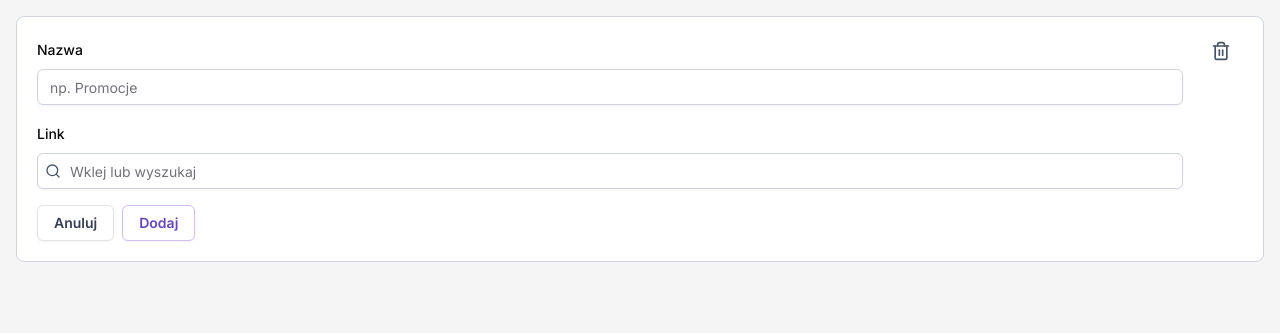
it: NavigationForm › sprawdz po blędnym wypełnianu formularza czy pokazuje błedy dla użytkownika › sprawdz czy pokazuje błędy walidacji
The width and height of the screenshot is (1280, 333).
Step 1. Click the button "Dodaj" → point(159, 223), box [122,205,195,241]
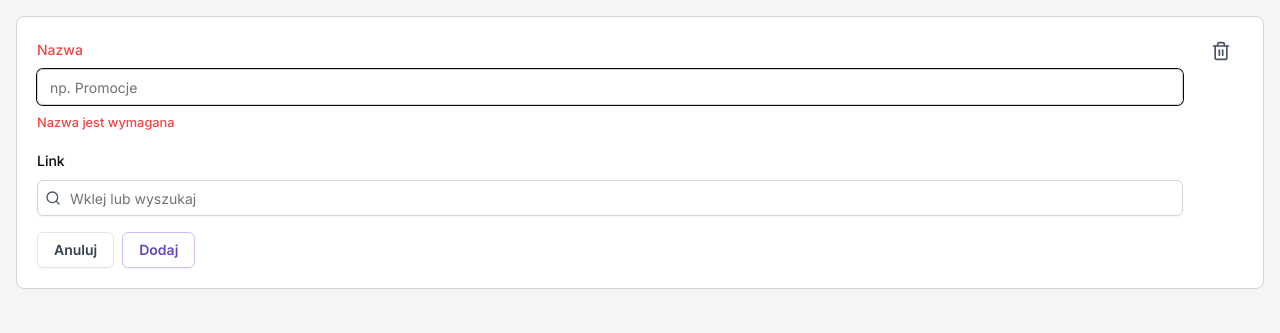
Result: the text "Nazwa jest wymagana" is shown at [37,115,174,130]
Step 2. Type "niepoprawny-url" into the field with placeholder "Wklej lub wyszukaj" → point(610, 198), box [37,180,1183,216]
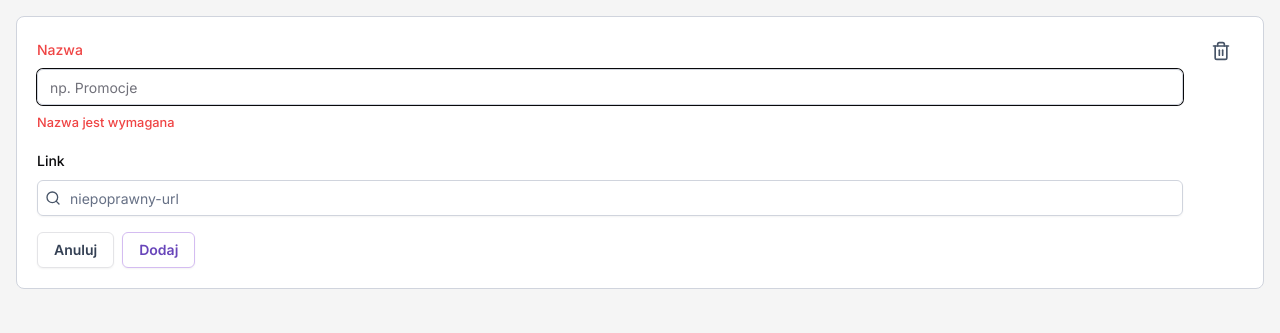
Step 3. Click the button "Dodaj" → point(159, 250), box [122,232,195,268]
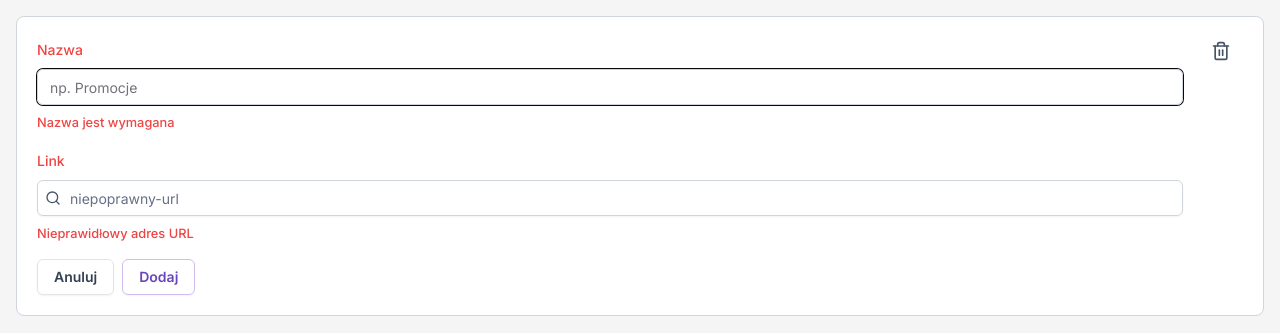
Result: the text "Nieprawidłowy adres URL" is shown at [37,226,194,241]
